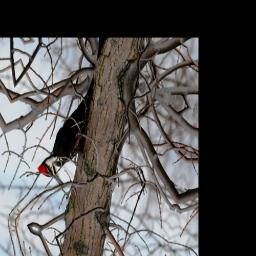Woodpecker: (36, 58, 102, 193)
